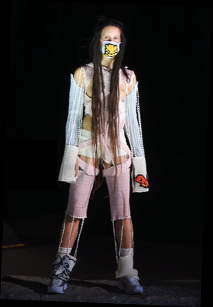with_mask: (99, 32, 121, 59)
